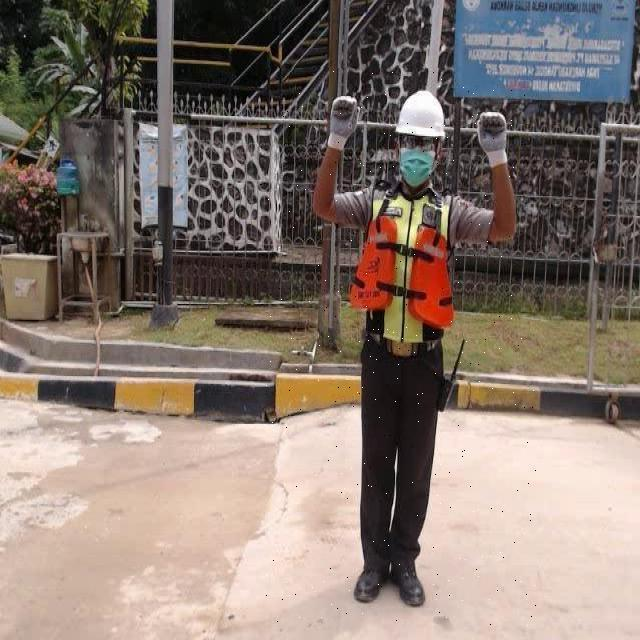gloves: (325, 96, 359, 152), (476, 112, 507, 168)
goggles: (397, 136, 441, 149)
helmet: (393, 88, 449, 145)
safety_vest: (349, 187, 453, 343)
